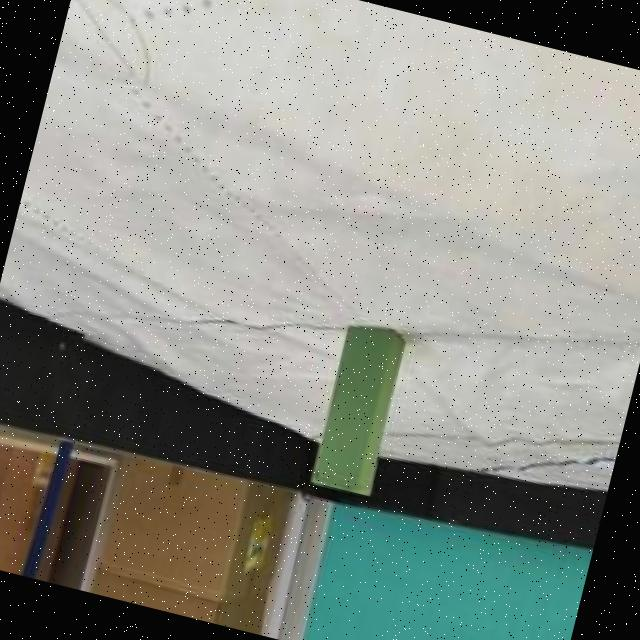greenbox: (307, 316, 408, 496)
